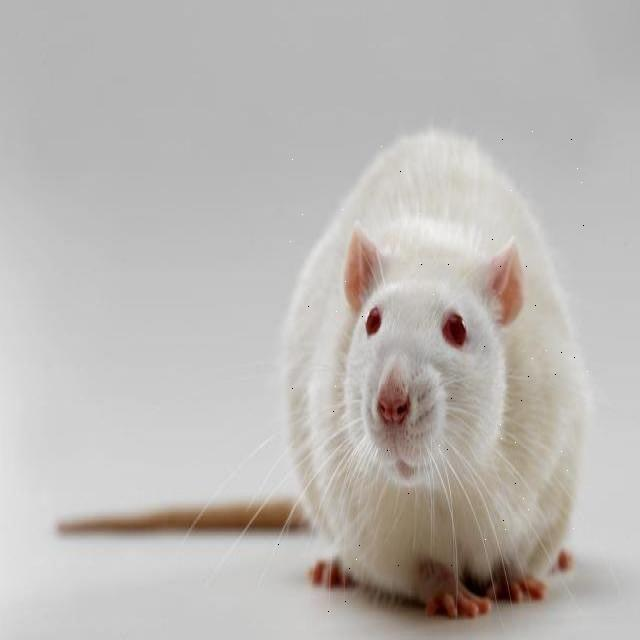rat: (274, 130, 588, 613)
